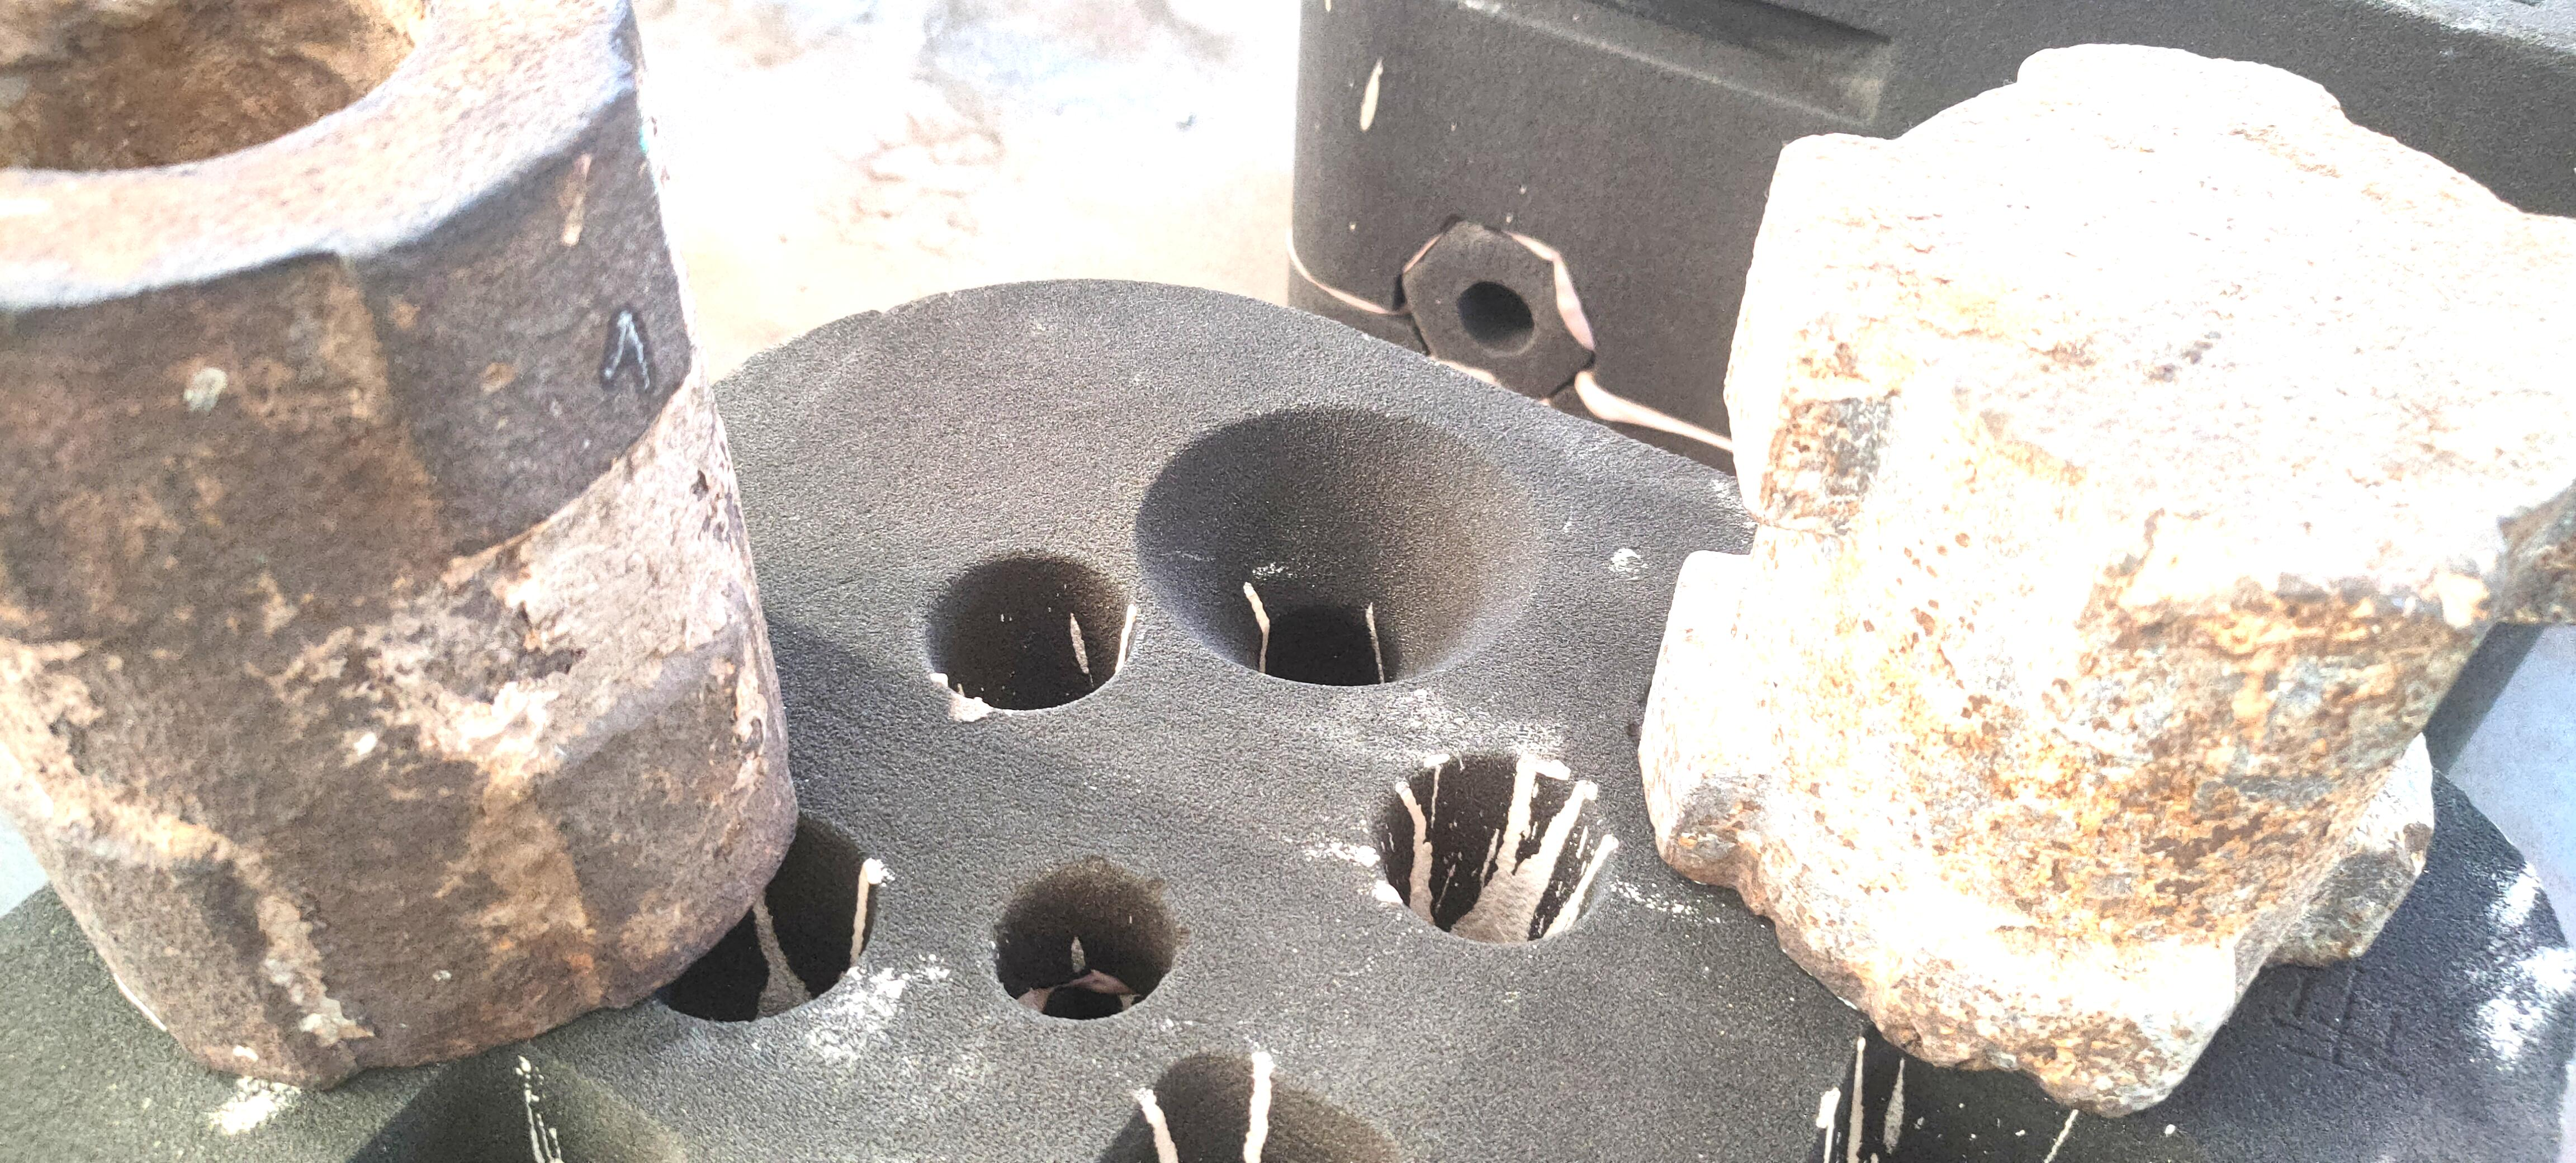pouring hole: (1132, 406, 1539, 687)
